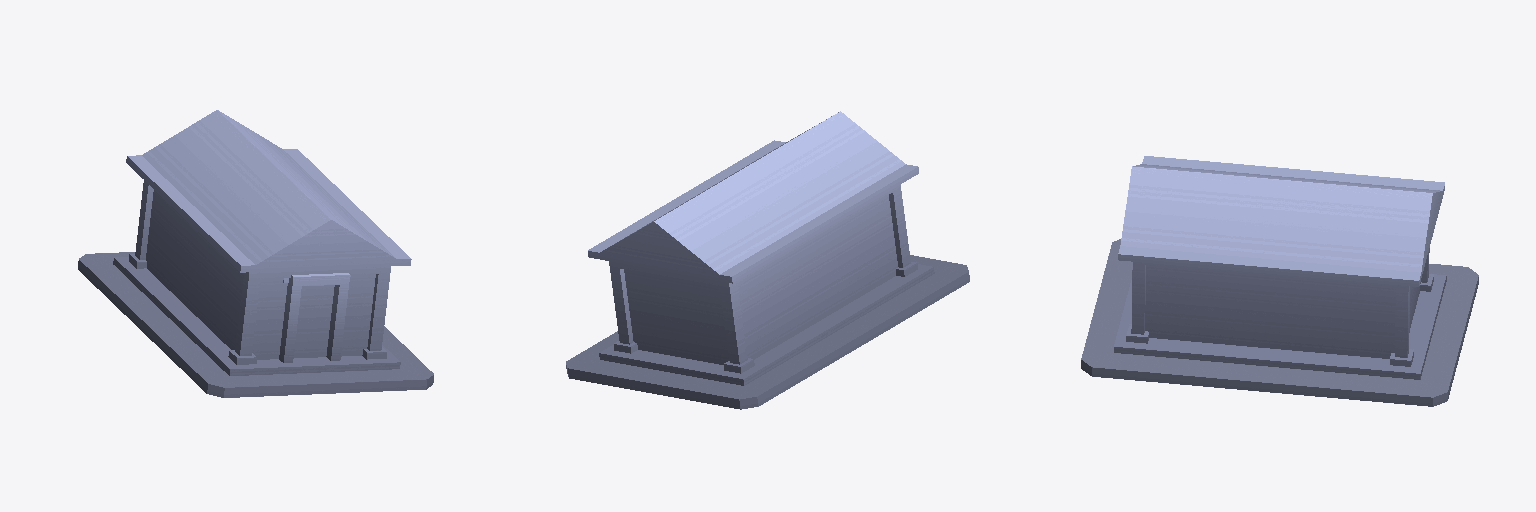
3 renders of one model, left to right at view 1: azimuth 30°, elevation 25°; view 2: azimuth 150°, elevation 25°; view 3: azimuth 270°, elevation 25°, orthographic.
Parts seen in each view (by area): view 1: Crypt_3; view 2: Crypt_3; view 3: Crypt_3.
Part boxes in pixels (x1,y1,x2,y2): Crypt_3: (78,110,433,397); Crypt_3: (566,111,969,409); Crypt_3: (1081,156,1478,406).
Size of the model in its own units: 2.82 by 1.94 by 3.87.
Materials: 2 (1 with a texture image).